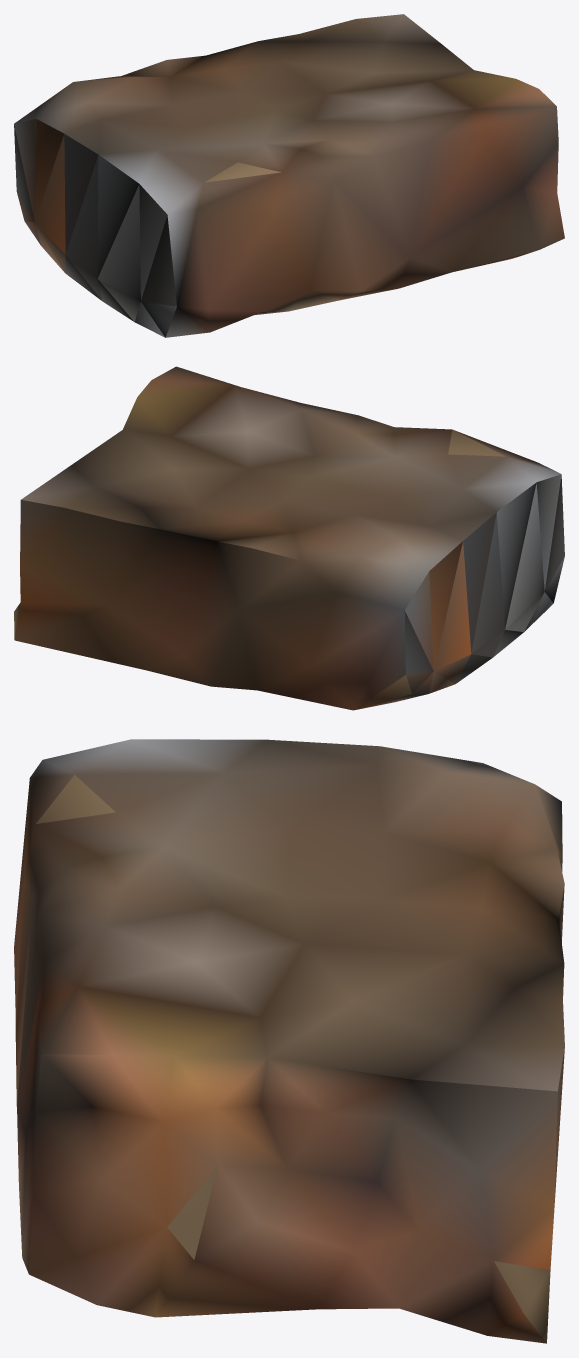
Rendered from sm_en_Brick_05_01.FBX.
The picture shows the model from 3 angles, top to bottom: view 1: azimuth 30°, elevation 25°; view 2: azimuth 150°, elevation 25°; view 3: azimuth 270°, elevation 25°; orthographic projection. The views are drawn at different scales.
Visible parts, largest first — view 1: sm_en_Brick_05_01_LOD0; view 2: sm_en_Brick_05_01_LOD0; view 3: sm_en_Brick_05_01_LOD0.
Boxes of the visible parts, left/top/right/bottom form: sm_en_Brick_05_01_LOD0: left=14, top=14, right=564, bottom=337; sm_en_Brick_05_01_LOD0: left=14, top=366, right=564, bottom=710; sm_en_Brick_05_01_LOD0: left=14, top=739, right=564, bottom=1343.
Size of what is drawn, in the model's own units: 17.5 by 11.83 by 6.89.
